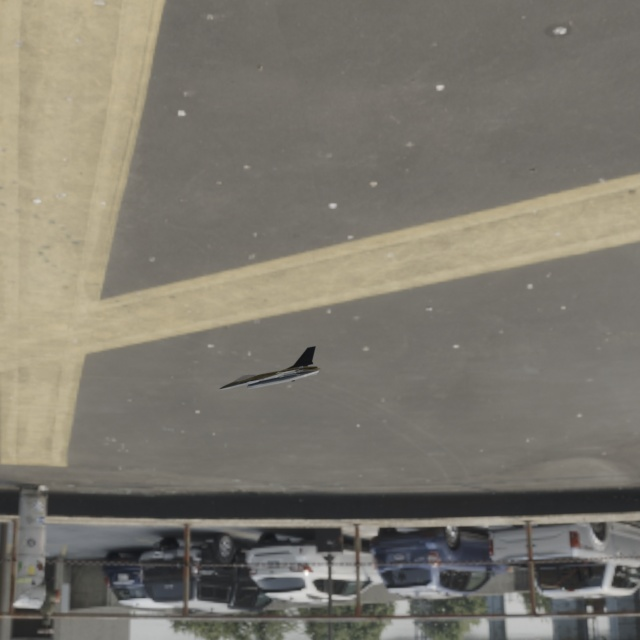model: (208, 341, 326, 399)
